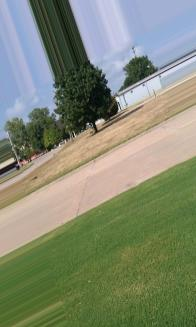patch: (111, 118, 143, 129), (32, 172, 57, 183), (54, 156, 94, 162), (172, 93, 191, 101), (82, 138, 107, 144), (146, 108, 175, 112), (12, 183, 21, 190)
